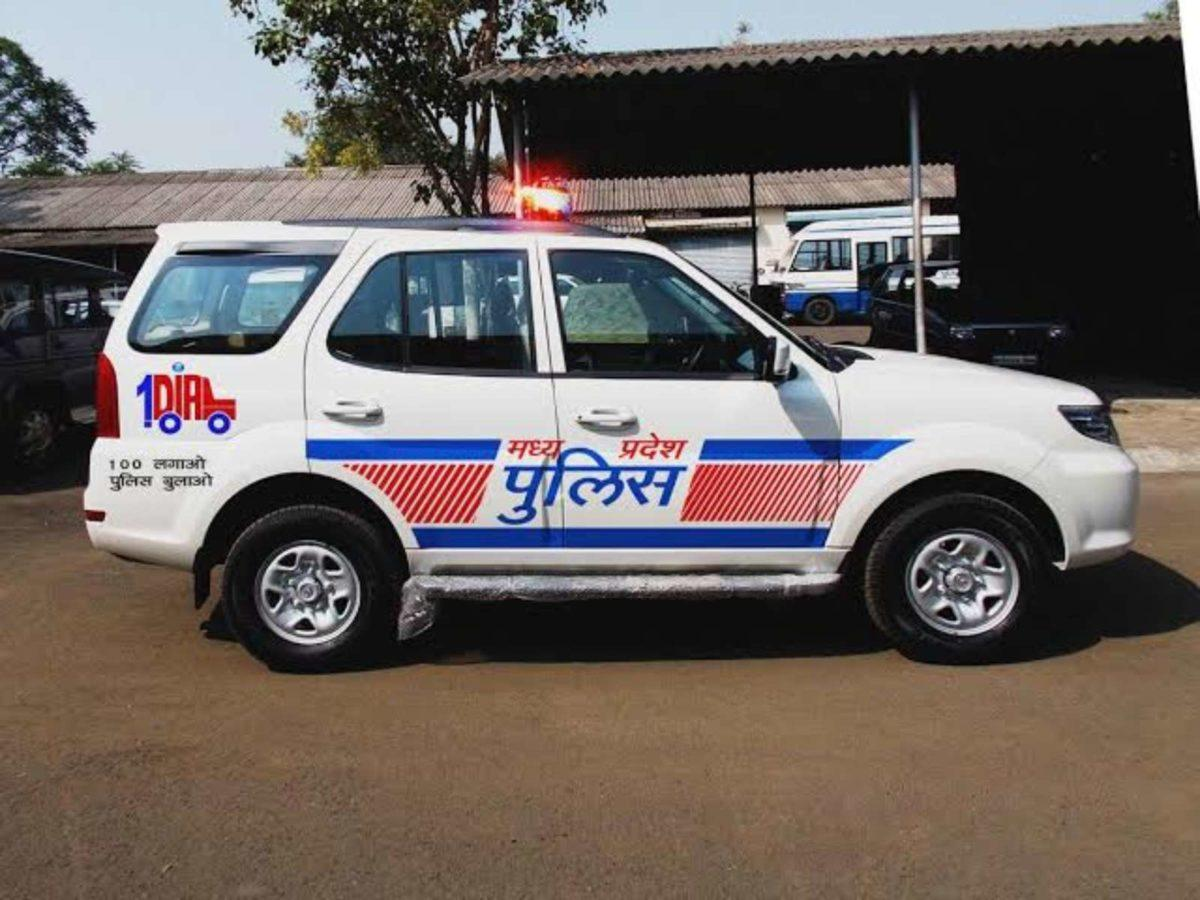Emergency-Vehicles: (105, 192, 1137, 676)
